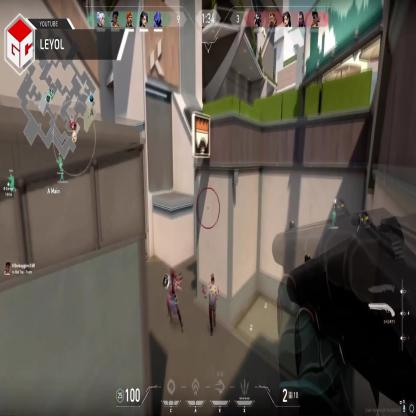enemy: (166, 269, 184, 334), (201, 274, 219, 333)
enemy_head: (171, 270, 176, 280), (211, 275, 215, 286)
